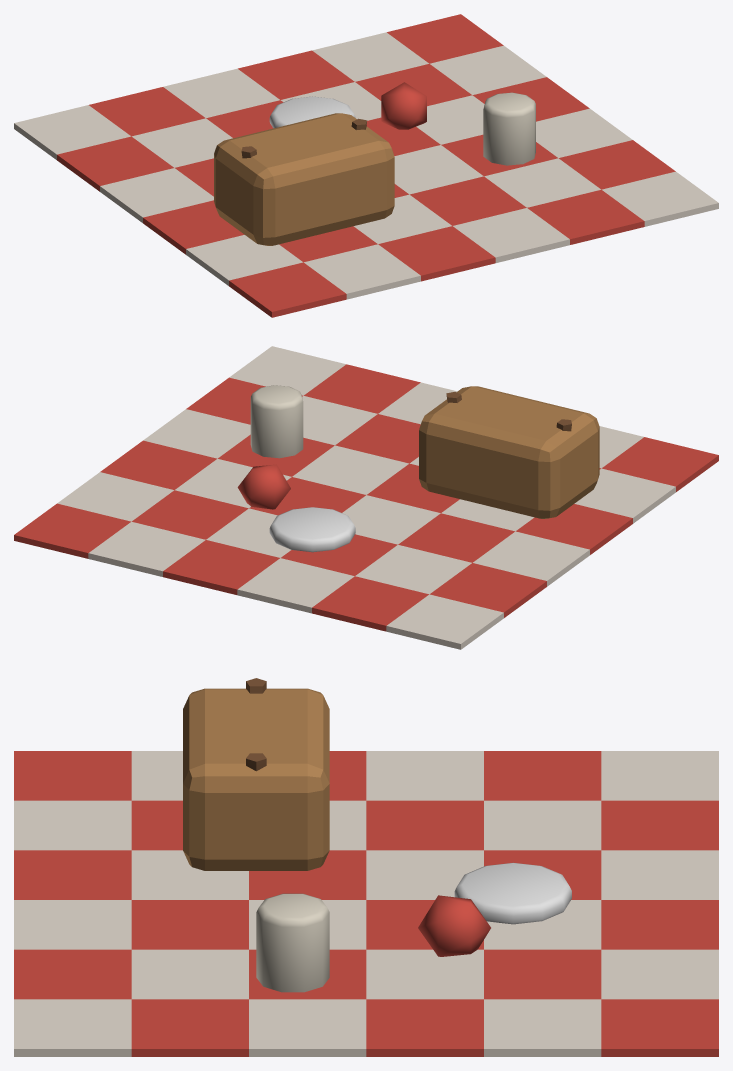
Rendered from picnic.fbx.
3 views of the same model, one above another, from view 1: azimuth 30°, elevation 25°; view 2: azimuth 150°, elevation 25°; view 3: azimuth 270°, elevation 25° (orthographic). The views are drawn at different scales.
Visible parts, largest first — view 1: picnic; view 2: picnic; view 3: picnic.
Part boxes in pixels (x1=…): picnic: x1=14, y1=14, x2=718, y2=317; picnic: x1=14, y1=346, x2=718, y2=649; picnic: x1=14, y1=678, x2=718, y2=1056.
Bounding box in the file's own units: 0.96 × 0.1825 × 0.96.
